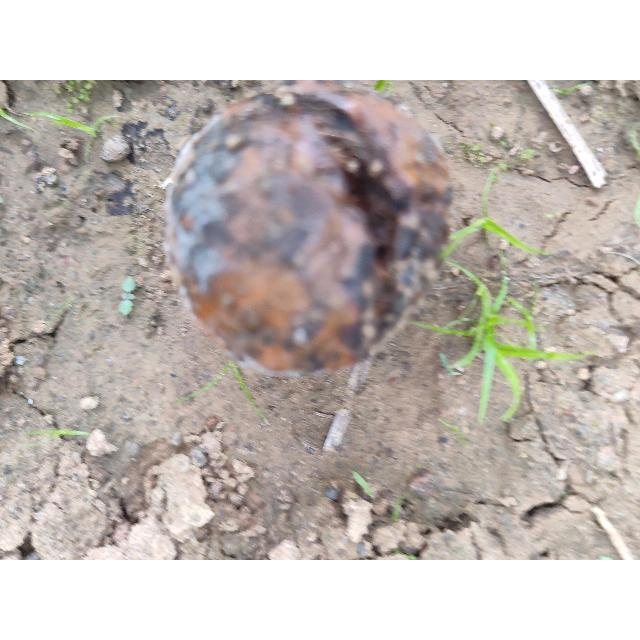damaged: (162, 85, 453, 378)
